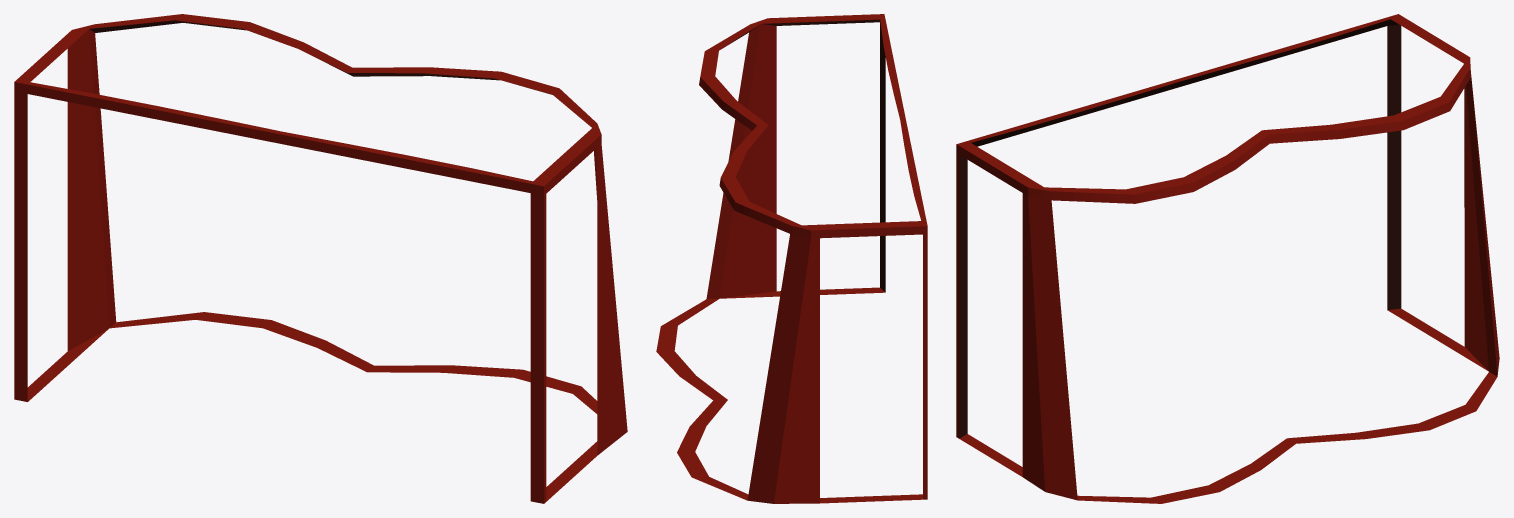
Rendered from goal.fbx.
3 views of the same model, side by side, from view 1: azimuth 30°, elevation 25°; view 2: azimuth 150°, elevation 25°; view 3: azimuth 270°, elevation 25° (orthographic). The views are drawn at different scales.
Parts seen in each view (by area): view 1: goal; view 2: goal; view 3: goal.
Boxes of the visible parts, bbox=[...] form: goal: bbox=[14, 14, 627, 503]; goal: bbox=[656, 14, 927, 503]; goal: bbox=[956, 14, 1499, 503].
Size of the model in its own units: 8.62 by 10.03 by 5.97.
